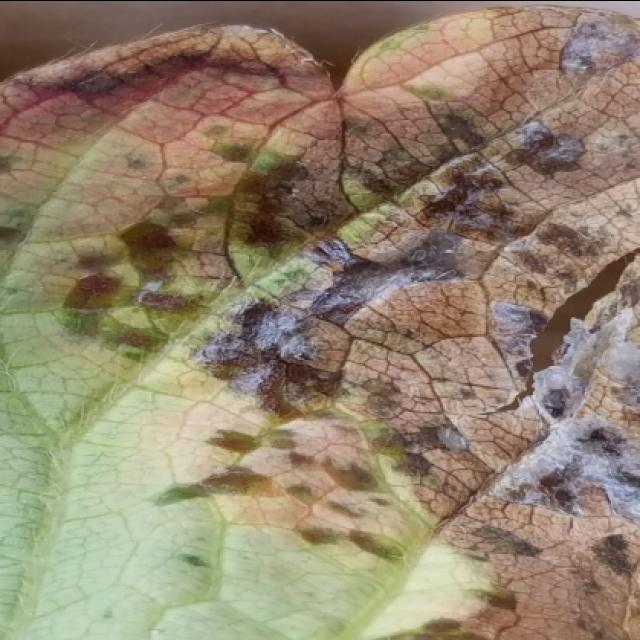Angular Leafspot: (0, 3, 638, 640)
